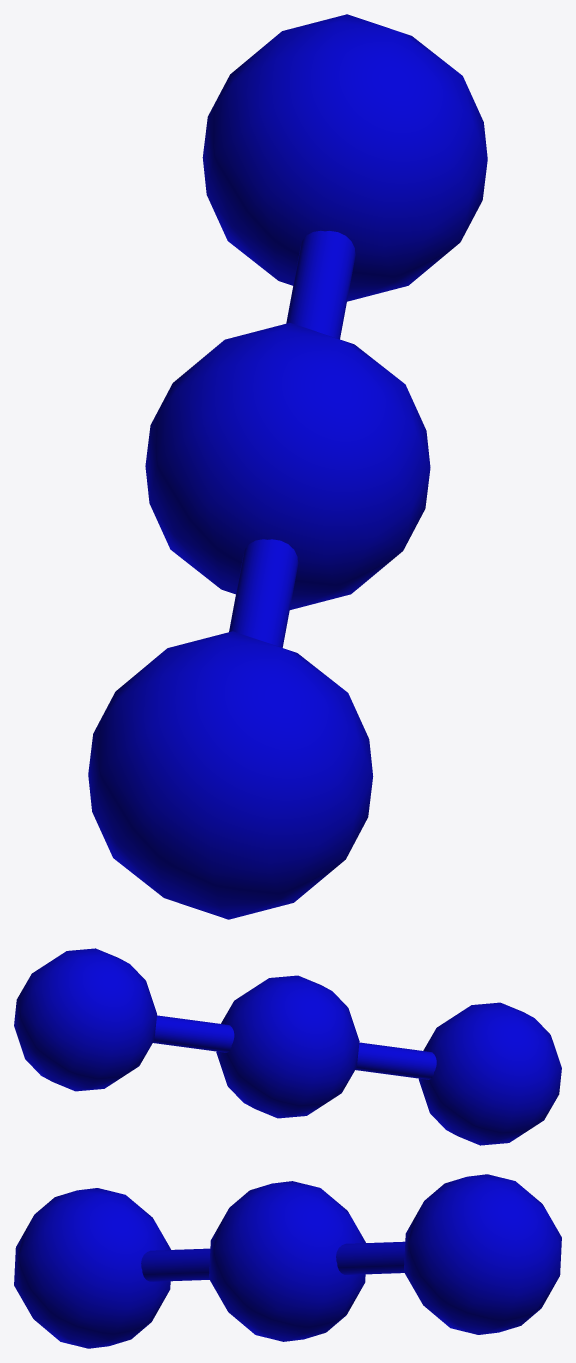
The picture shows the model from 3 angles, top to bottom: view 1: azimuth 30°, elevation 25°; view 2: azimuth 150°, elevation 25°; view 3: azimuth 270°, elevation 25°; orthographic projection. The views are drawn at different scales.
Visible parts, largest first — view 1: vmd_mol0_rep0; view 2: vmd_mol0_rep0; view 3: vmd_mol0_rep0.
Boxes of the visible parts, x1,y1,x2,y2 form: vmd_mol0_rep0: [88, 14, 487, 919]; vmd_mol0_rep0: [14, 948, 561, 1145]; vmd_mol0_rep0: [14, 1174, 561, 1348].
Bounding box in the file's own units: 1.09 × 0.7551 × 1.31.
